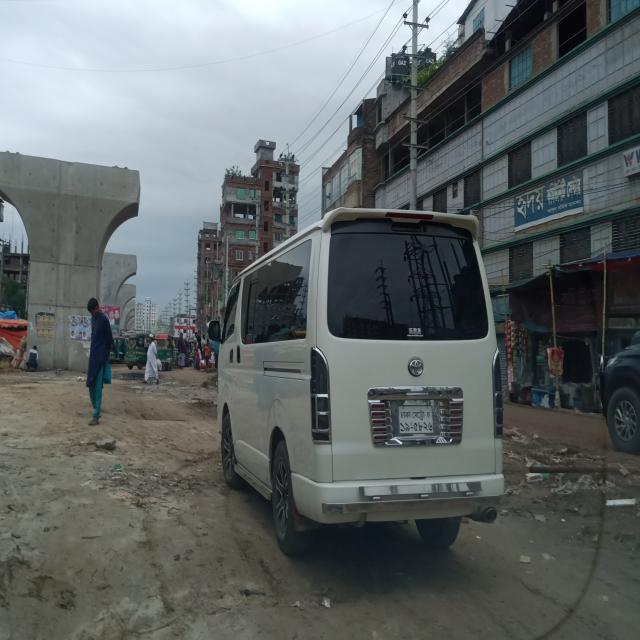microbus: (210, 193, 521, 568)
